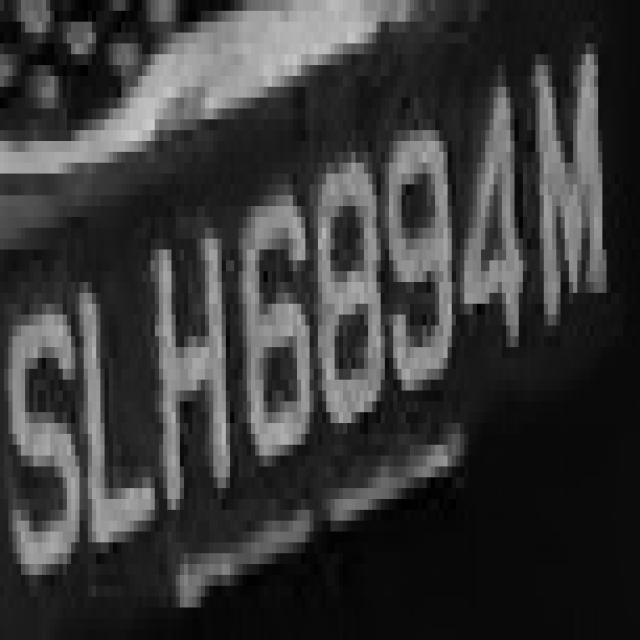4: (439, 98, 531, 412)
6: (238, 163, 314, 510)
8: (301, 162, 385, 456)
9: (376, 119, 464, 423)
H: (150, 206, 238, 510)
L: (80, 238, 163, 596)
M: (519, 22, 623, 336)
S: (12, 250, 84, 618)
